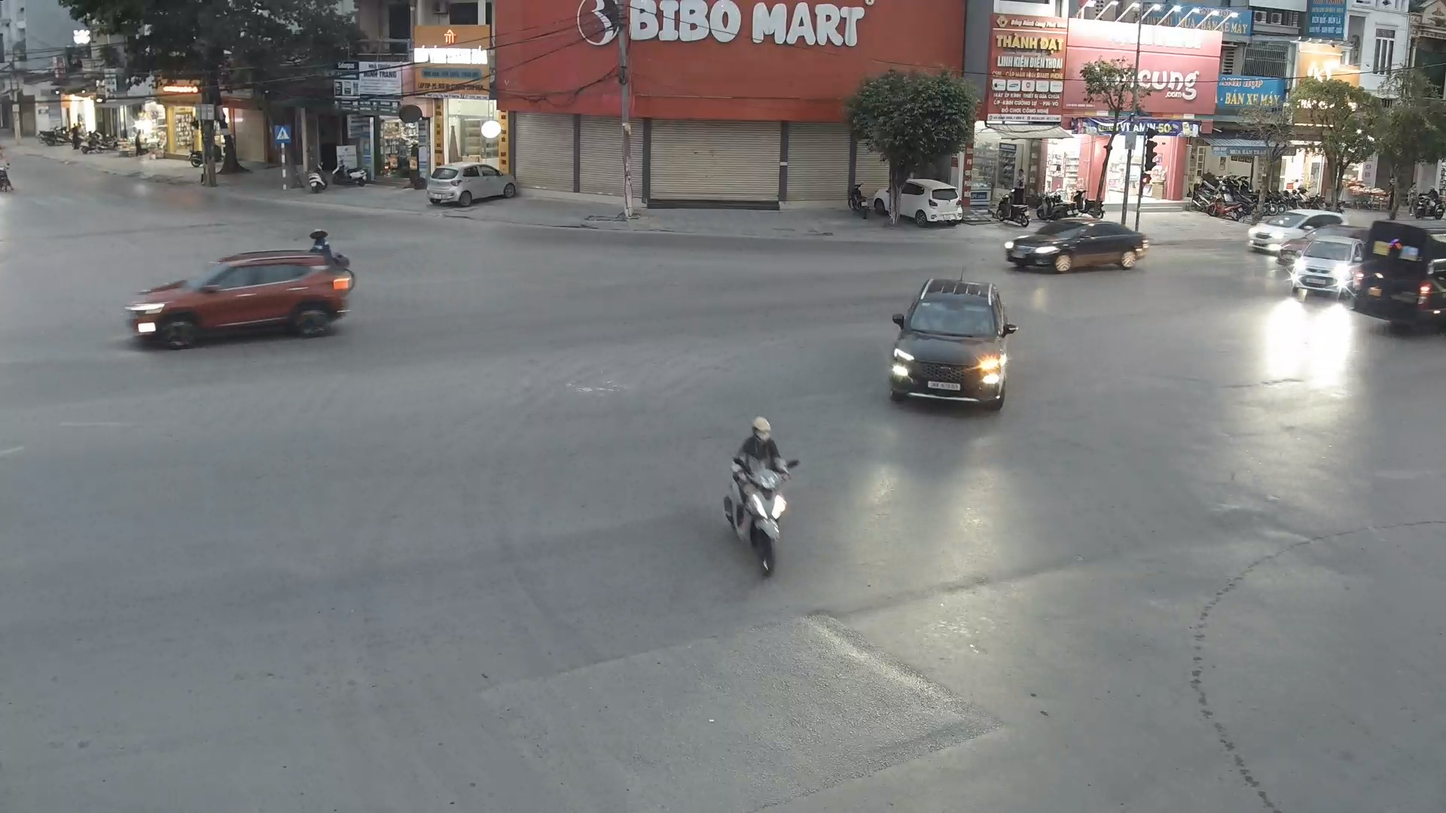car: (125, 246, 355, 350), (887, 276, 1017, 411), (1349, 241, 1445, 337), (1004, 215, 1147, 274), (1246, 208, 1352, 260), (1289, 231, 1365, 299), (426, 161, 520, 211)
motorbike: (721, 416, 802, 579)
